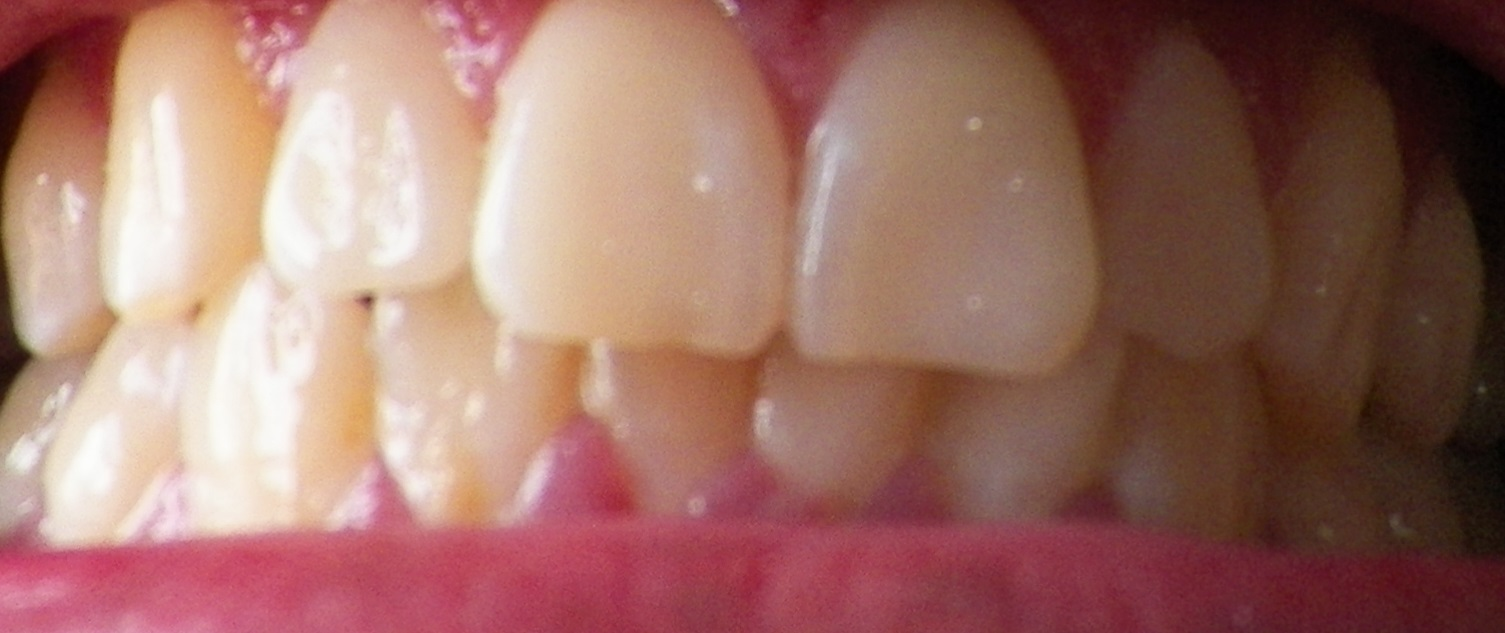boca: (26, 10, 1481, 553)
